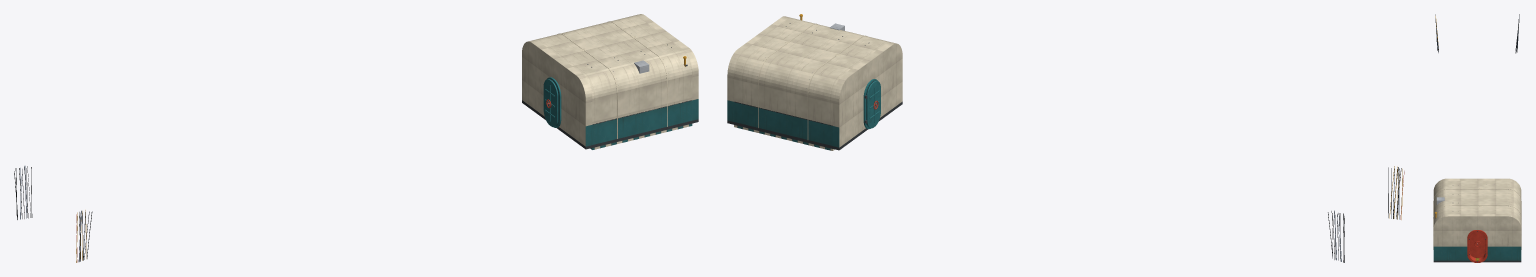
The model's file is Galley.glb.
3 renders of one model, left to right at view 1: azimuth 30°, elevation 25°; view 2: azimuth 150°, elevation 25°; view 3: azimuth 270°, elevation 25°, orthographic. The views are drawn at different scales.
Visible parts, largest first — view 1: Galley_Shell_Body, Bulkhead_3_Body, Galley_CableLooms_Body, Bulkhead_Aft_Body, WatertightDoor_Leaf.003; view 2: Galley_Shell_Body, Bulkhead_3_Body, Galley_CableLooms_Body, Bulkhead_Aft_Body, WatertightDoor_Leaf.003; view 3: Bulkhead_Aft_Body, Galley_Shell_Body, EngineRoomDoor_Leaf.001, Galley_Shell_Structure, EngineRoomDoor_Body.001, Bulkhead_3_Body, Galley_CableLooms_Body.
Part boxes in pixels (x1=…): Galley_Shell_Body: x1=535, y1=15, x2=692, y2=147; Bulkhead_3_Body: x1=522, y1=40, x2=592, y2=149; Galley_CableLooms_Body: x1=14, y1=166, x2=92, y2=262; Bulkhead_Aft_Body: x1=634, y1=14, x2=698, y2=123; WatertightDoor_Leaf.003: x1=543, y1=79, x2=558, y2=127; Galley_Shell_Body: x1=734, y1=18, x2=889, y2=148; Bulkhead_3_Body: x1=832, y1=42, x2=902, y2=150; Galley_CableLooms_Body: x1=1328, y1=166, x2=1404, y2=262; Bulkhead_Aft_Body: x1=727, y1=16, x2=790, y2=124; WatertightDoor_Leaf.003: x1=866, y1=80, x2=880, y2=128; Bulkhead_Aft_Body: x1=1433, y1=214, x2=1521, y2=262; Galley_Shell_Body: x1=1433, y1=180, x2=1521, y2=224; EngineRoomDoor_Leaf.001: x1=1469, y1=232, x2=1485, y2=257; Galley_Shell_Structure: x1=1433, y1=188, x2=1521, y2=249; EngineRoomDoor_Body.001: x1=1467, y1=230, x2=1487, y2=262; Bulkhead_3_Body: x1=1433, y1=178, x2=1521, y2=190; Galley_CableLooms_Body: x1=1435, y1=14, x2=1519, y2=53.
Bounding box in the file's own units: 28.17 × 3.01 × 5.02.
Materials: 51 (28 with a texture image).
